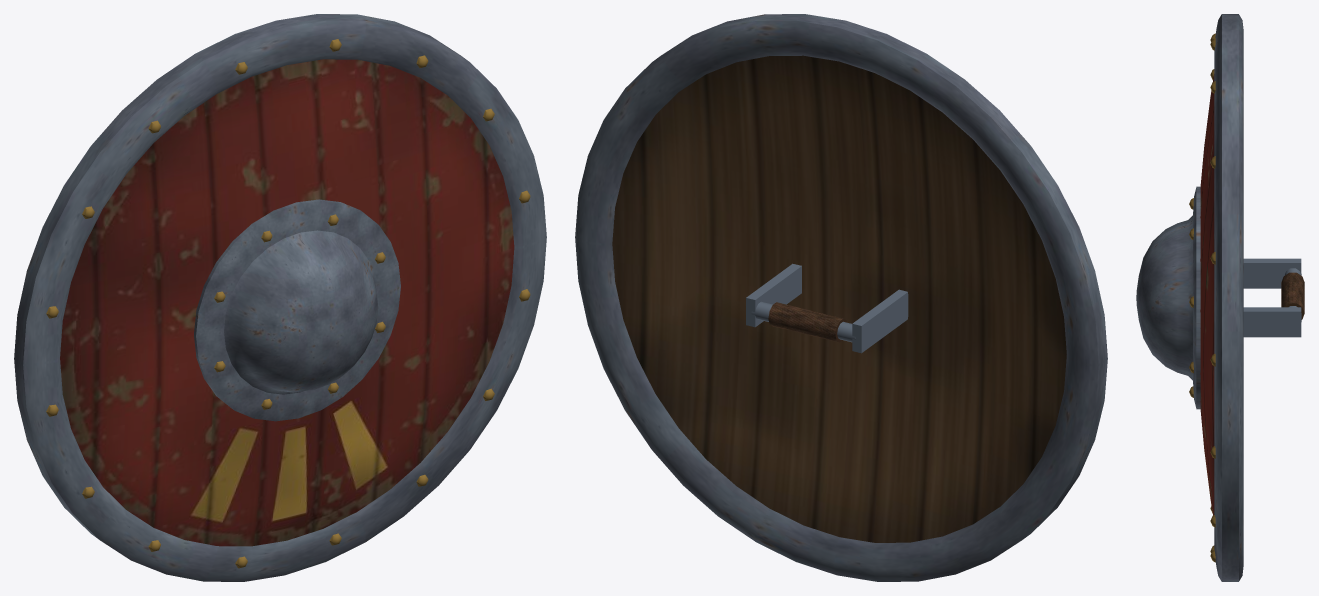
The model's file is schild.glb.
3 views of the same model, side by side, from view 1: azimuth 30°, elevation 25°; view 2: azimuth 150°, elevation 25°; view 3: azimuth 270°, elevation 25° (orthographic). The views are drawn at different scales.
Visible parts, largest first — view 1: schild; view 2: schild; view 3: schild.
Part boxes in pixels (box(x1,y1,x2,y2)): schild: box(14, 14, 546, 581); schild: box(575, 14, 1107, 581); schild: box(1136, 14, 1304, 581).
Bounding box in the file's own units: 0.562 × 0.562 × 0.1665.
1 material, 1 textured.
